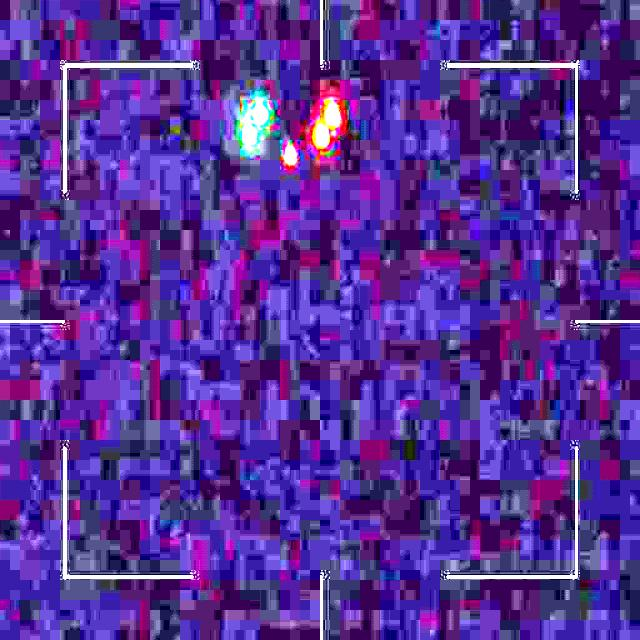bird: (242, 95, 340, 168)
